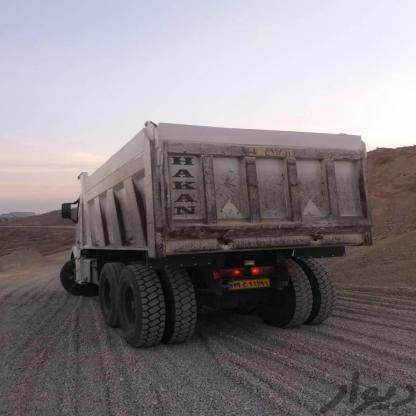truck: (47, 116, 377, 352)
